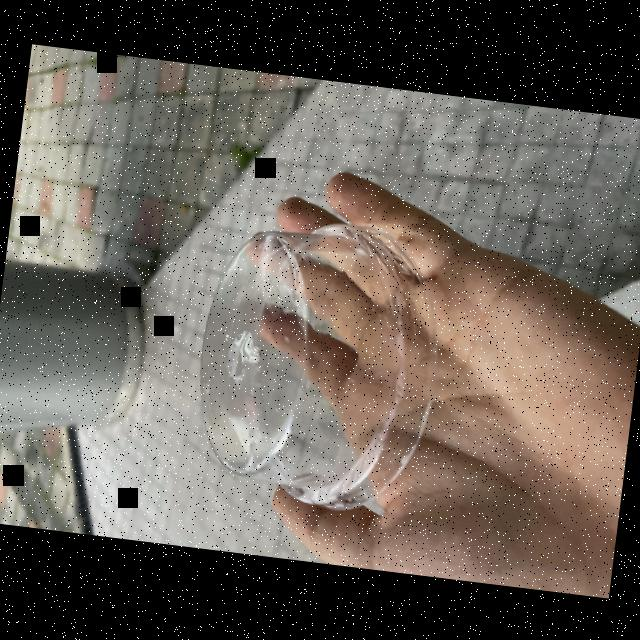plastic_cup_lid: (178, 199, 460, 519)
